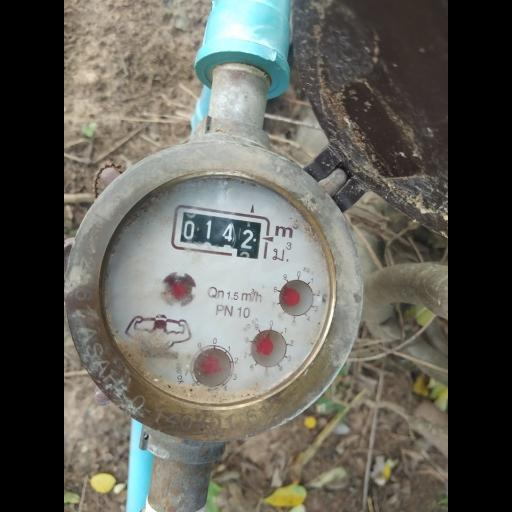0: (180, 212, 202, 245)
1: (199, 215, 220, 246)
2: (237, 220, 262, 259)
4: (215, 216, 241, 249)
border_water_meter_number: (169, 203, 271, 260)
